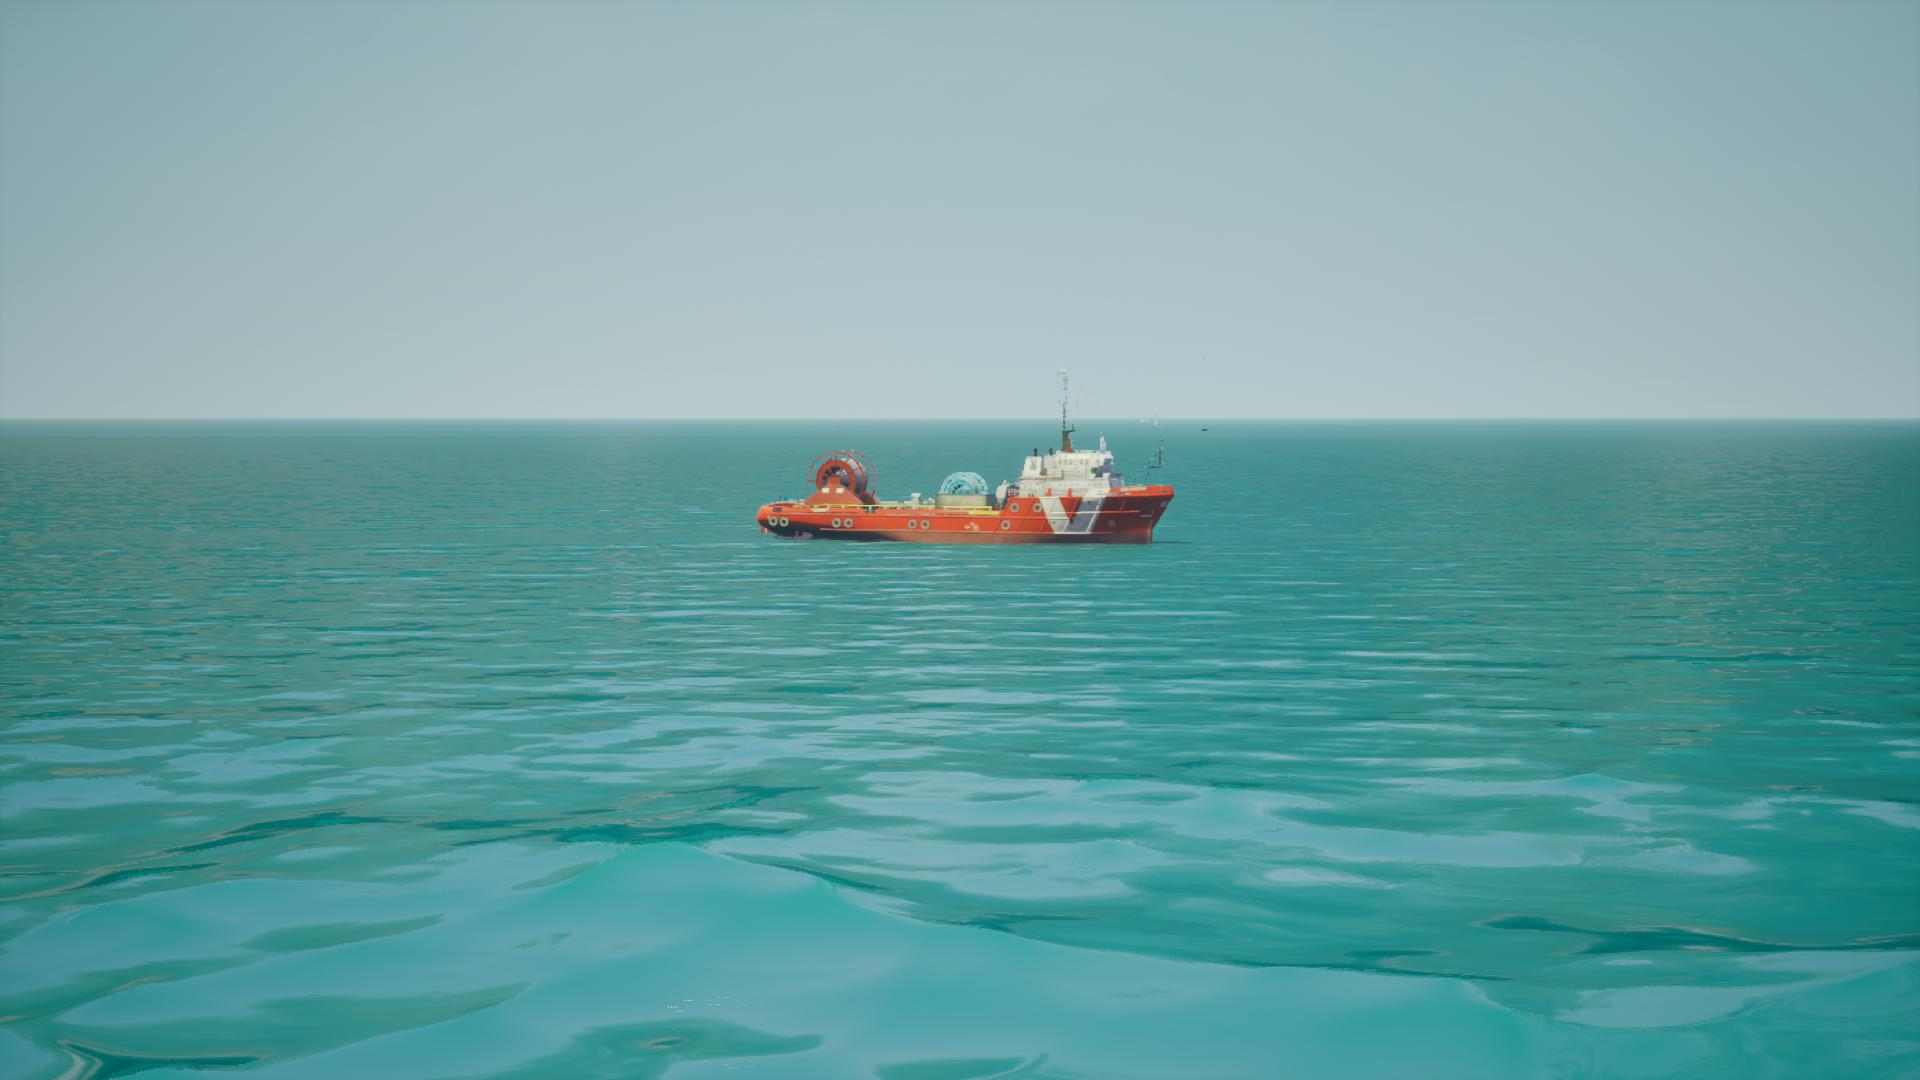Tug Boat: (758, 371, 1179, 547)
